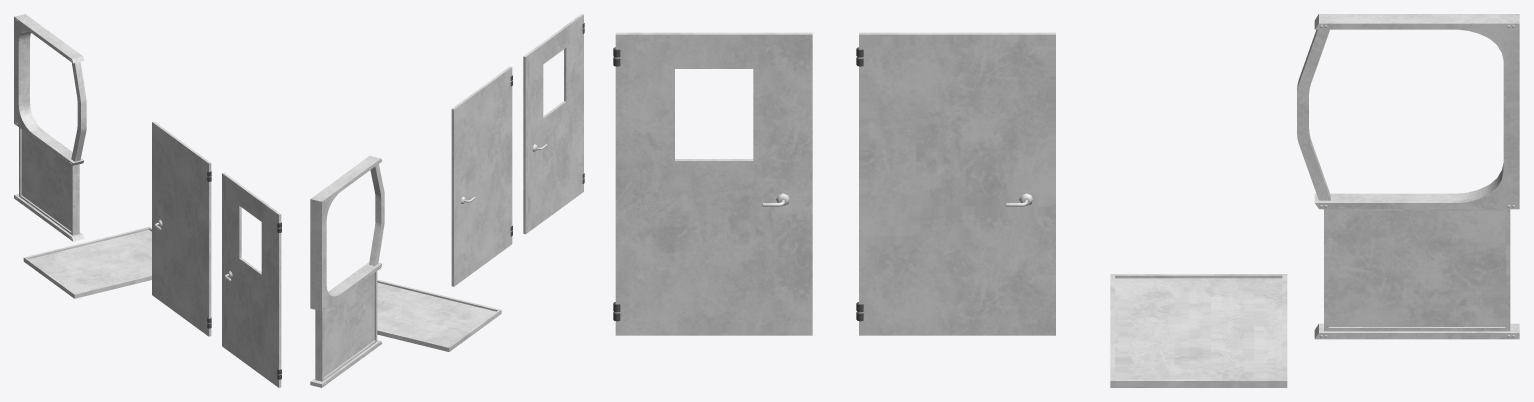
File: interior.glb
The picture shows the model from 3 angles, left to right: view 1: azimuth 30°, elevation 25°; view 2: azimuth 150°, elevation 25°; view 3: azimuth 270°, elevation 25°; orthographic projection. The views are drawn at different scales.
Visible parts, largest first — view 1: door_2, door_1, wall, desk; view 2: door_2, door_1, wall, desk; view 3: door_2, door_1, wall, desk.
Part boxes in pixels (box(x1,y1,x2,y2)): door_2: box(152, 121, 211, 336); door_1: box(222, 172, 281, 387); wall: box(14, 14, 86, 241); desk: box(23, 226, 151, 298); door_2: box(451, 66, 512, 286); door_1: box(523, 14, 584, 234); wall: box(310, 156, 384, 387); desk: box(377, 279, 501, 351); door_2: box(856, 32, 1055, 335); door_1: box(613, 32, 812, 335); wall: box(1297, 14, 1519, 339); desk: box(1110, 274, 1287, 387).
Size of the model in its own units: 1.62 by 2.23 by 5.81.
2 materials, 1 textured.
